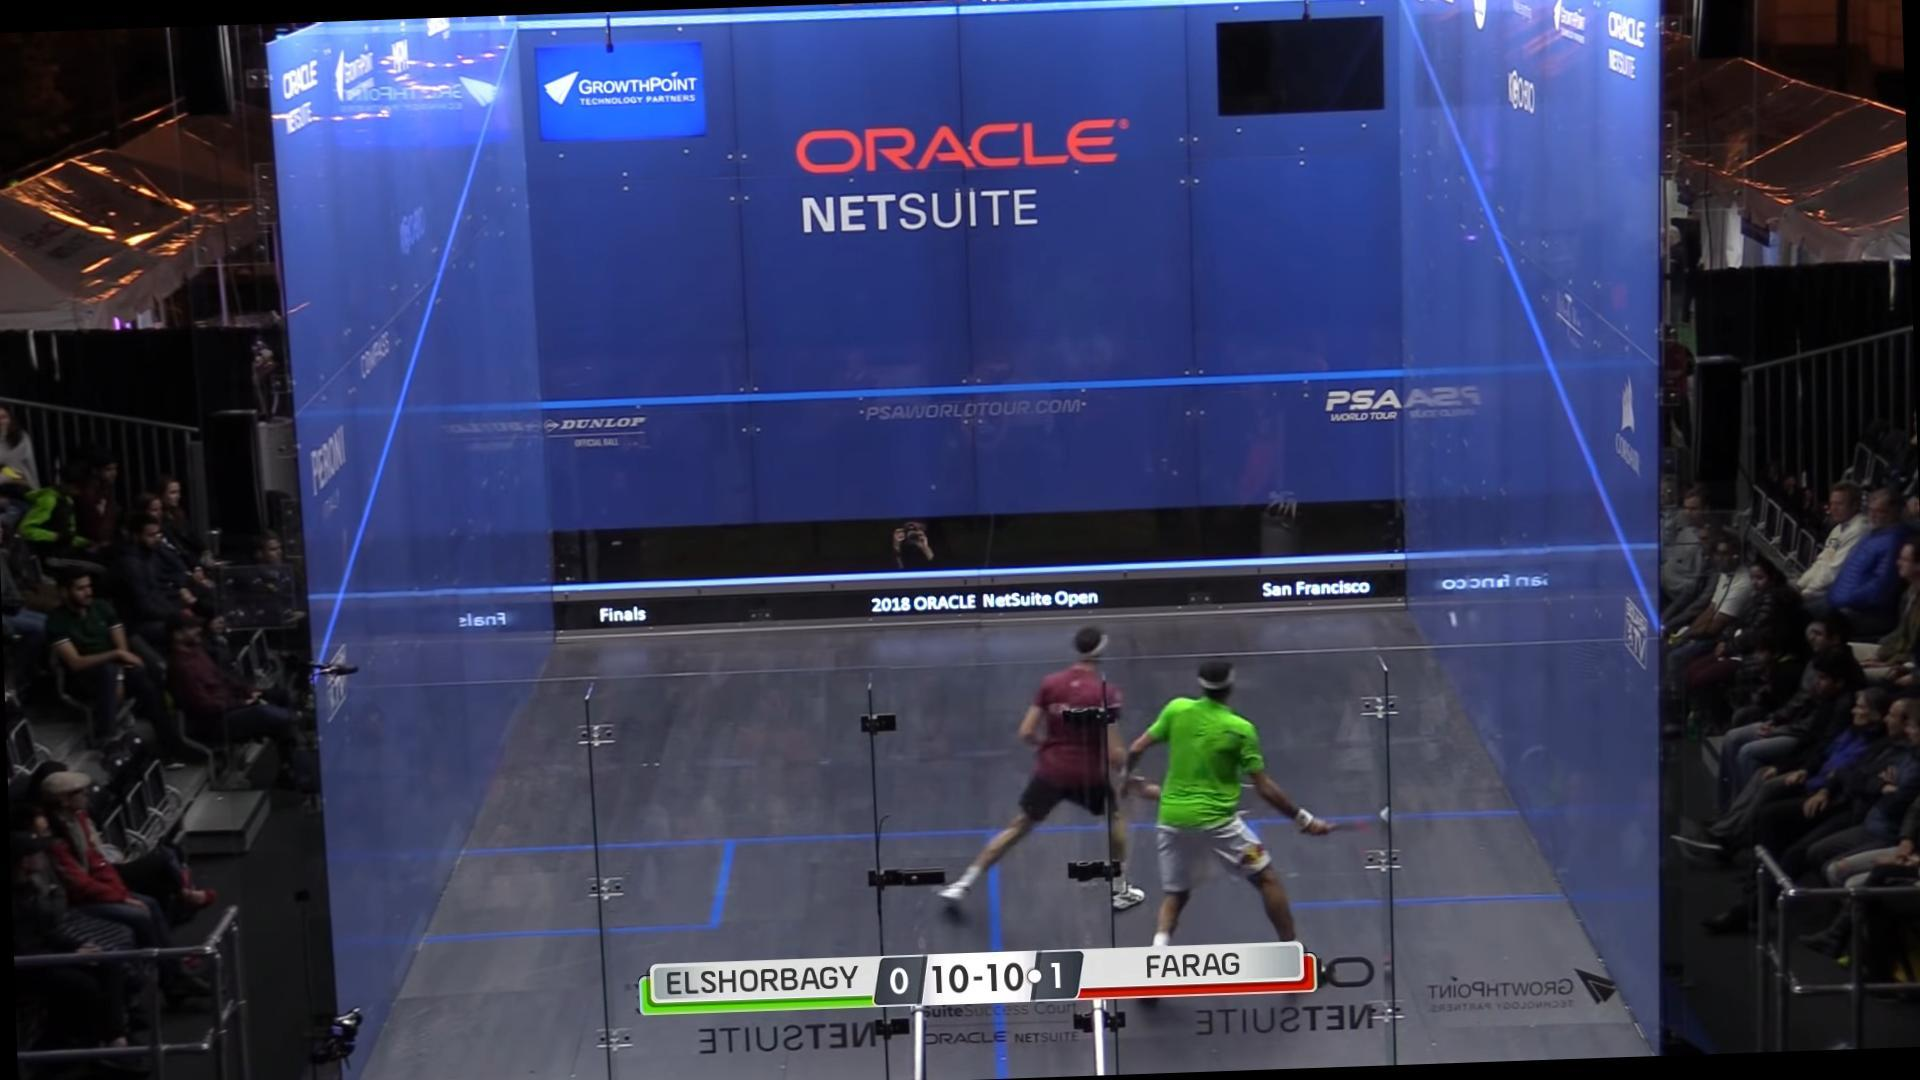Squash-Ball: (1440, 608, 1466, 630)
